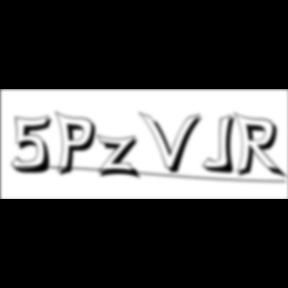5: (10, 114, 58, 176)
J: (202, 114, 242, 176)
P: (56, 110, 102, 180)
V: (140, 110, 206, 176)
z: (96, 134, 146, 182)
